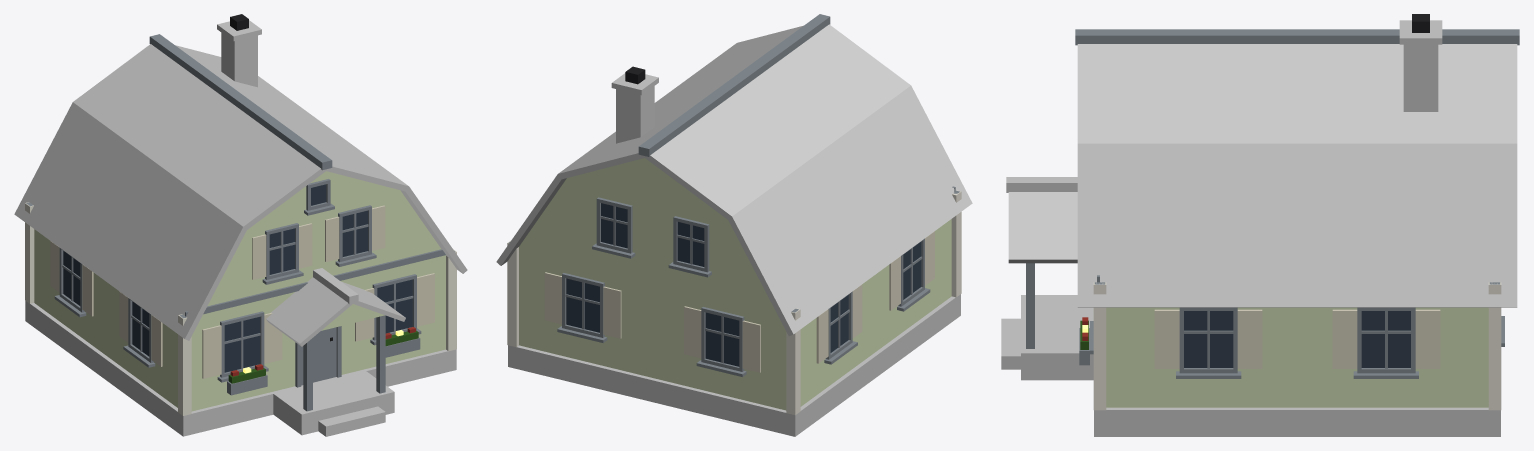
The model's file is gambrel_house.gltf.
3 renders of one model, left to right at view 1: azimuth 30°, elevation 25°; view 2: azimuth 150°, elevation 25°; view 3: azimuth 270°, elevation 25°, orthographic. The views are drawn at different scales.
Visible parts, largest first — view 1: gambrel_house; view 2: gambrel_house; view 3: gambrel_house.
Part boxes in pixels (x1,y1,x2,y2): gambrel_house: (14,14,467,436); gambrel_house: (496,14,972,436); gambrel_house: (1001,14,1519,436).
Bounding box in the file's own units: 8.53 × 8.1 × 10.5.
